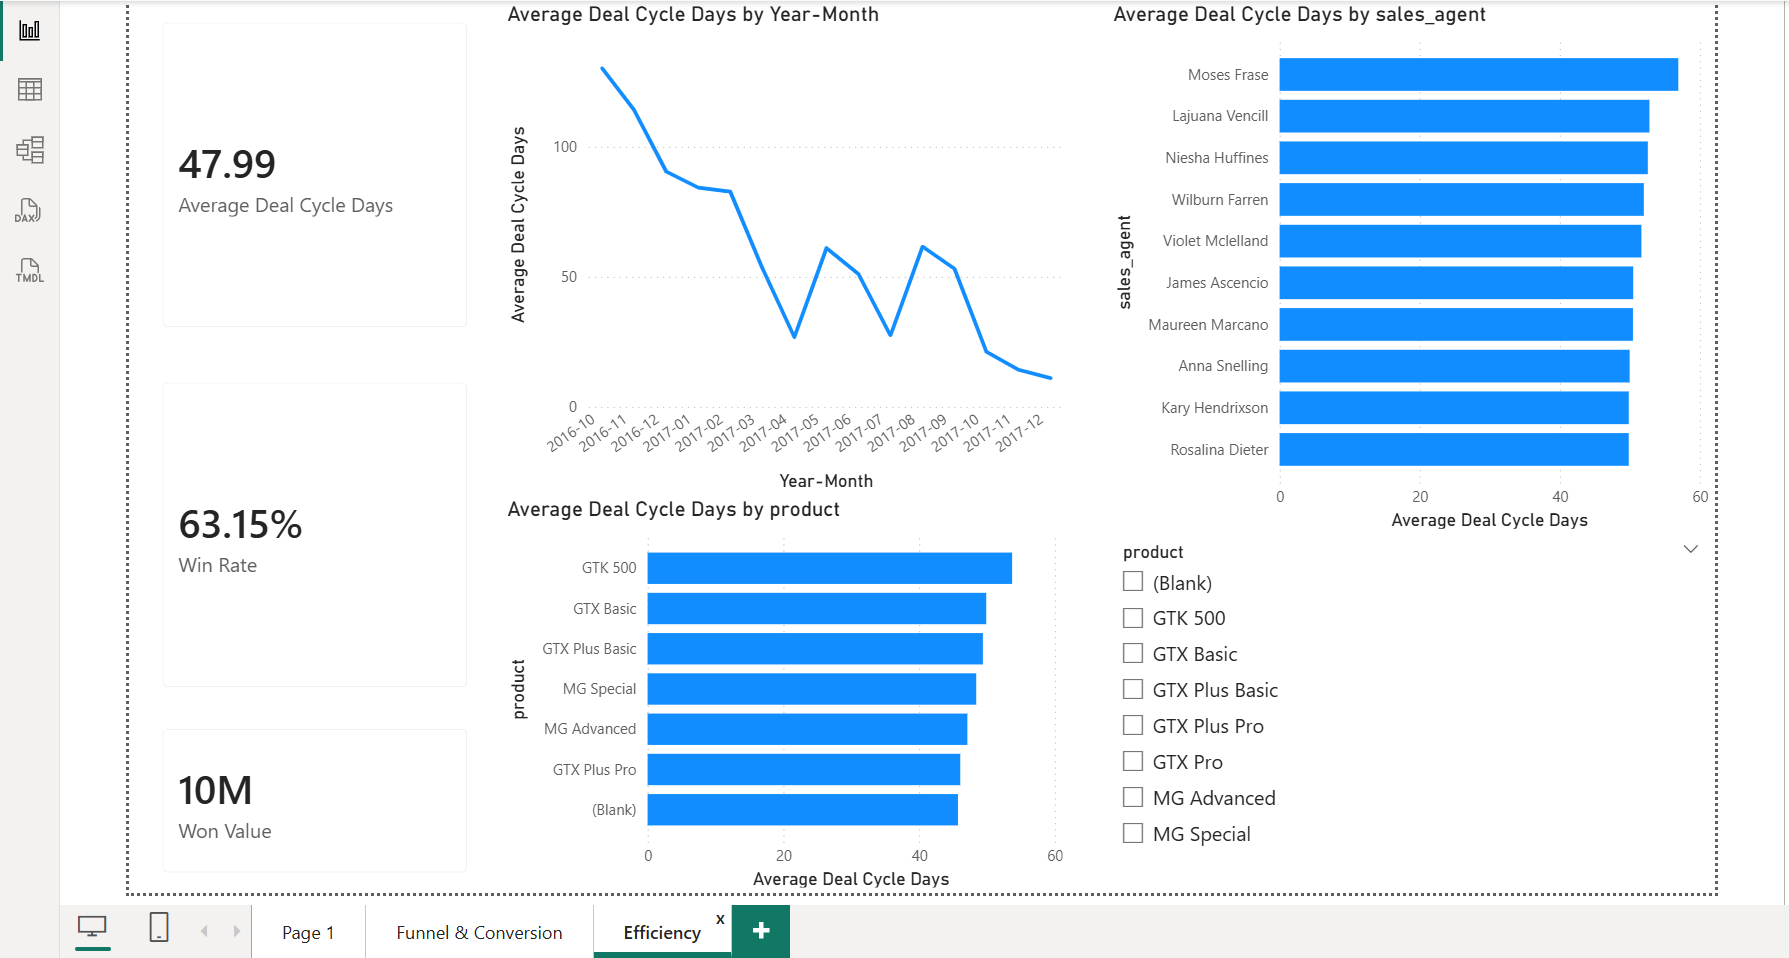

This screenshot's page, from the dashboard's own definition file:
{"tool":"powerbi","page":{"name":"Efficiency","canvas":[1280,720],"ordinal":2},"visuals":[{"type":"cardVisual","fields":{"Data":["Sales_Pipeline.Average Deal Cycle Days"]},"box":[10,0,280,280],"z":0},{"type":"cardVisual","fields":{"Data":["Sales_Pipeline.Win Rate"]},"box":[10,290,280,280],"z":1000},{"type":"cardVisual","fields":{"Data":["Sales_Pipeline.Won Value"]},"box":[10,570,280,150],"z":2000},{"type":"lineChart","fields":{"Y":["Sales_Pipeline.Average Deal Cycle Days"],"Category":["Calendar.Year-Month"]},"box":[300.8,0,458.6,399.2],"z":3000},{"type":"clusteredBarChart","fields":{"Category":["Sales_Teams.sales_agent"],"Y":["Sales_Pipeline.Average Deal Cycle Days"]},"box":[789.2,0,490.2,430.8],"z":4000},{"type":"clusteredBarChart","fields":{"Category":["Products.product"],"Y":["Sales_Pipeline.Average Deal Cycle Days"]},"box":[300.8,399.2,458.6,321.2],"z":5000},{"type":"slicer","fields":{"Values":["Calendar.Year-Month"]},"box":[789.2,560.8,458.6,150.4],"z":6000},{"type":"slicer","fields":{"Values":["Products.product"]},"box":[789.2,430.8,490.2,265.5],"z":7000}]}

Visuals, with their boxes on the page's 1280x720 design canvas (x1, y1, x2, y2). These are canvas units, not pixel positions in the 1789x958 screenshot, which may show the page scaled, cropped or inside an application window:
cardVisual - Sales_Pipeline.Average Deal Cycle Days: [x1=10, y1=0, x2=290, y2=280]
cardVisual - Sales_Pipeline.Win Rate: [x1=10, y1=290, x2=290, y2=570]
cardVisual - Sales_Pipeline.Won Value: [x1=10, y1=570, x2=290, y2=720]
lineChart - Sales_Pipeline.Average Deal Cycle Days x Calendar.Year-Month: [x1=301, y1=0, x2=759, y2=399]
clusteredBarChart - Sales_Teams.sales_agent x Sales_Pipeline.Average Deal Cycle Days: [x1=789, y1=0, x2=1279, y2=431]
clusteredBarChart - Products.product x Sales_Pipeline.Average Deal Cycle Days: [x1=301, y1=399, x2=759, y2=720]
slicer - Calendar.Year-Month: [x1=789, y1=561, x2=1248, y2=711]
slicer - Products.product: [x1=789, y1=431, x2=1279, y2=696]
